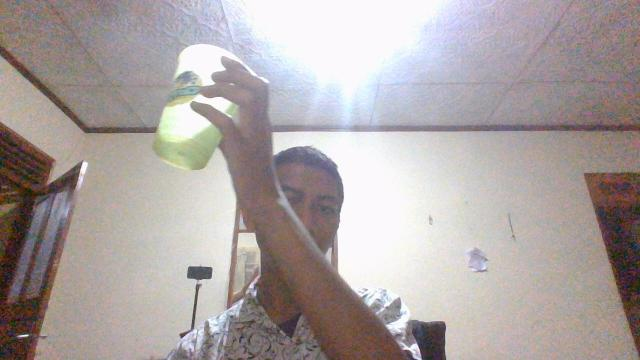botol-hijau: (150, 42, 266, 172)
